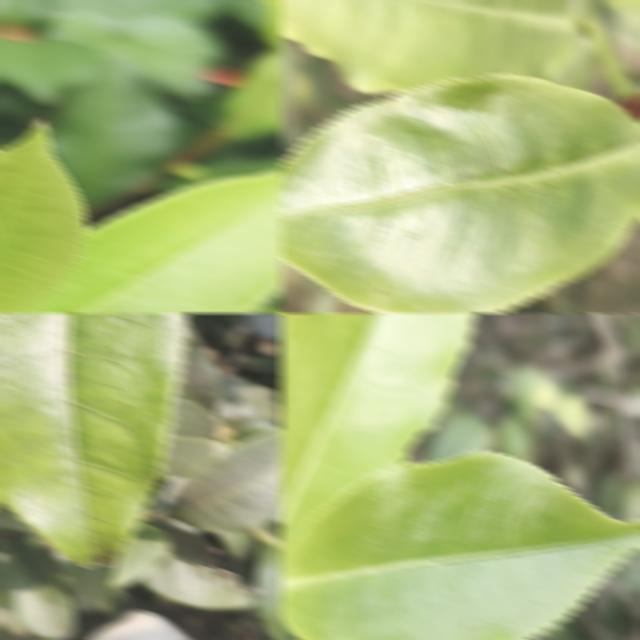Leaf: (279, 73, 640, 314), (279, 450, 640, 640), (279, 312, 476, 556), (0, 312, 188, 565), (11, 169, 283, 314), (279, 0, 577, 93), (48, 61, 176, 207), (0, 121, 87, 314), (172, 427, 283, 532), (219, 0, 283, 138), (0, 535, 76, 640), (160, 396, 220, 478), (107, 521, 171, 588), (254, 543, 283, 640)
